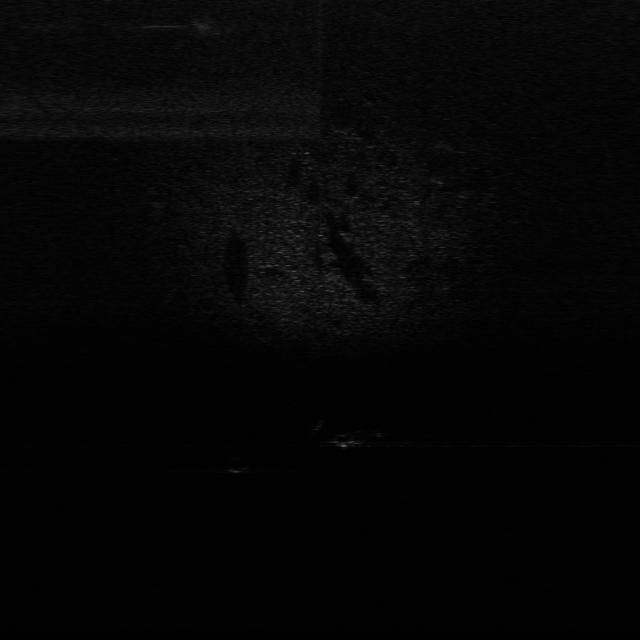ball: (221, 452, 258, 477)
human body: (313, 418, 397, 450)
